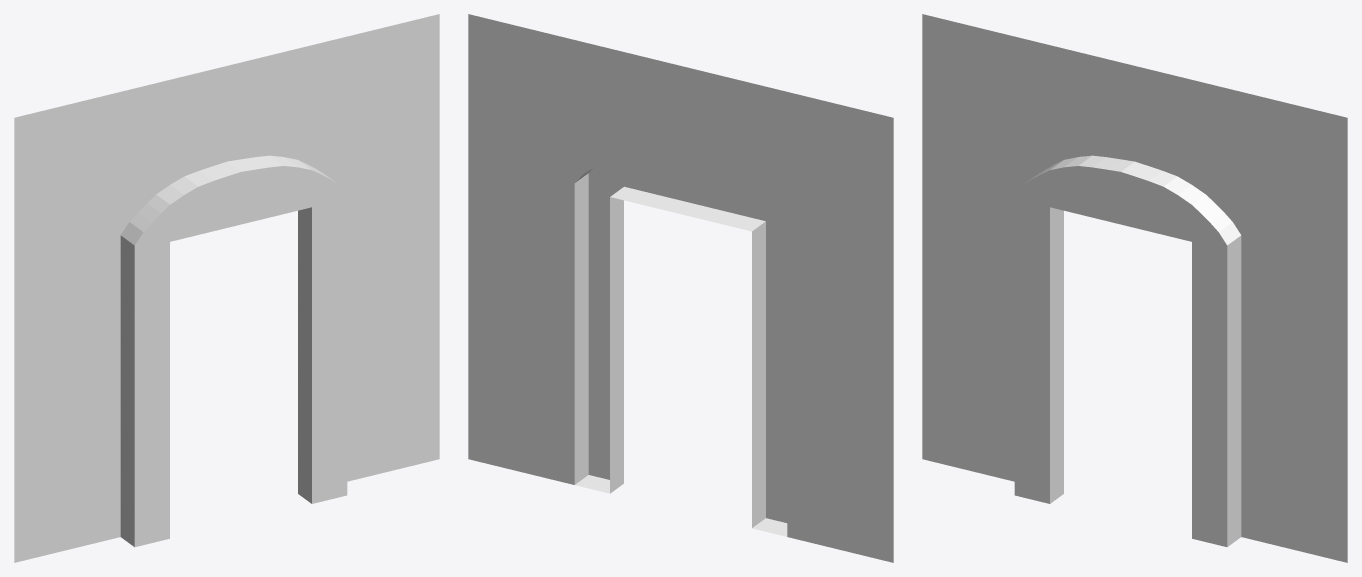
File: Marco_04.fbx
3 views of the same model, side by side, from view 1: azimuth 30°, elevation 25°; view 2: azimuth 150°, elevation 25°; view 3: azimuth 330°, elevation 25° (orthographic).
Visible parts, largest first — view 1: Plane.005; view 2: Plane.005; view 3: Plane.005.
Part boxes in pixels (bbox=[...]): Plane.005: bbox=[14, 14, 439, 562]; Plane.005: bbox=[468, 14, 893, 562]; Plane.005: bbox=[922, 14, 1347, 562].
Bounding box in the file's own units: 600 × 600 × 34.34.
